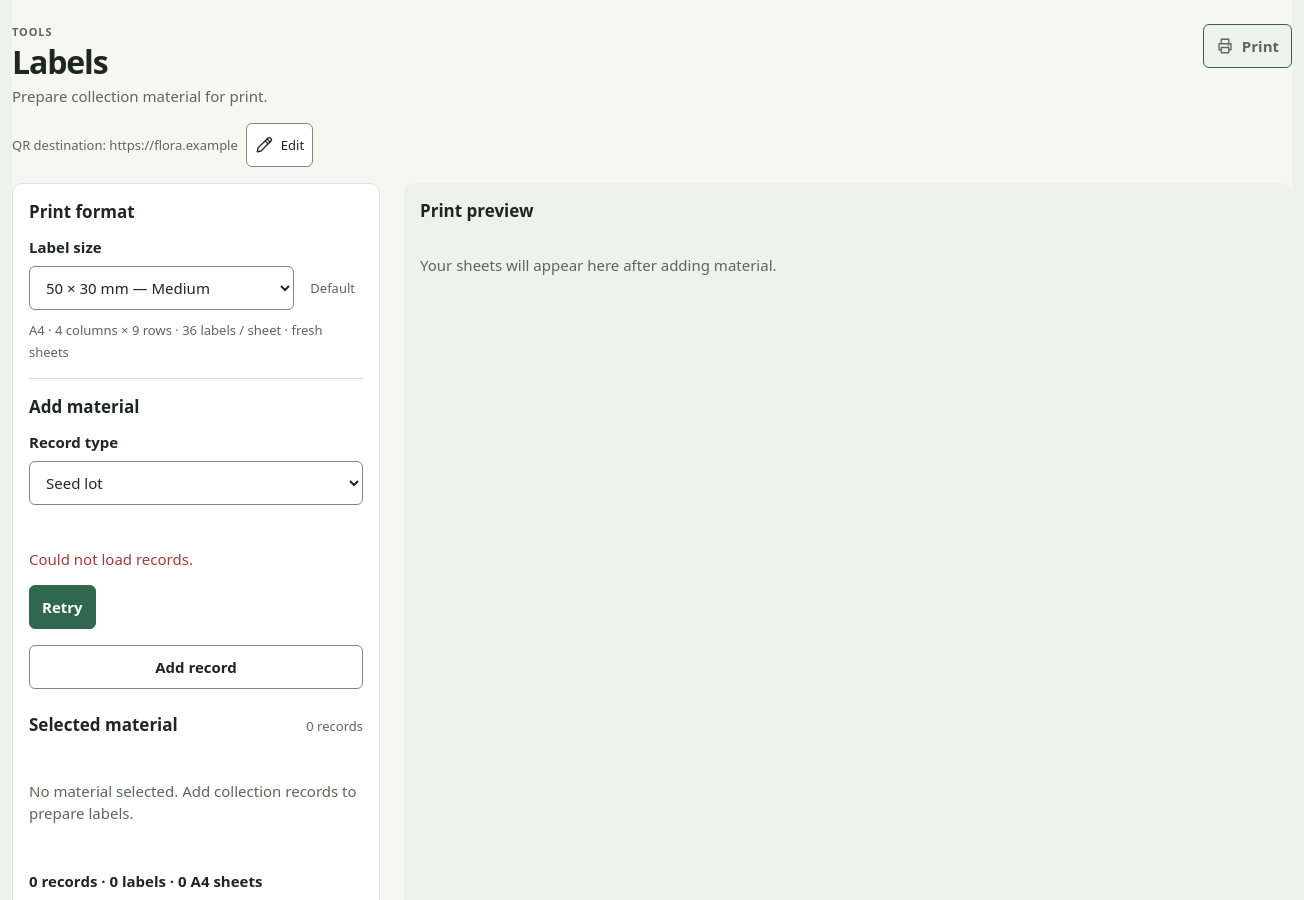
Test: retry and unavailable initial references remain actionable; expired auth returns to login
The width and height of the screenshot is (1304, 900).
Expected: the message shows "Could not load records", left=29, top=549, right=193, bottom=569
Step 1. Click the button "Retry" → (62,607), box left=29, top=585, right=96, bottom=629
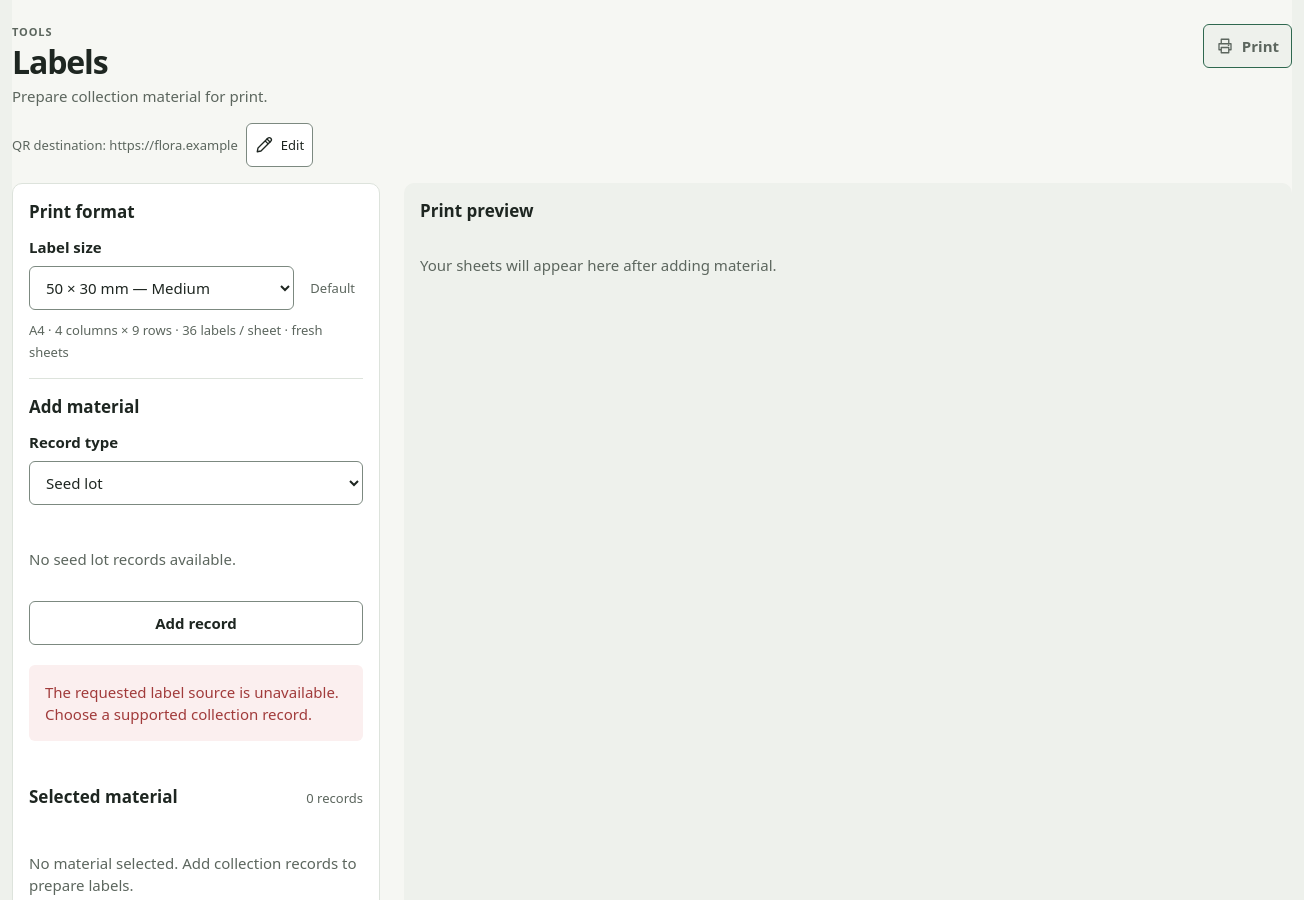
Expected: the message shows "requested label source is unavailable", left=45, top=682, right=339, bottom=724
